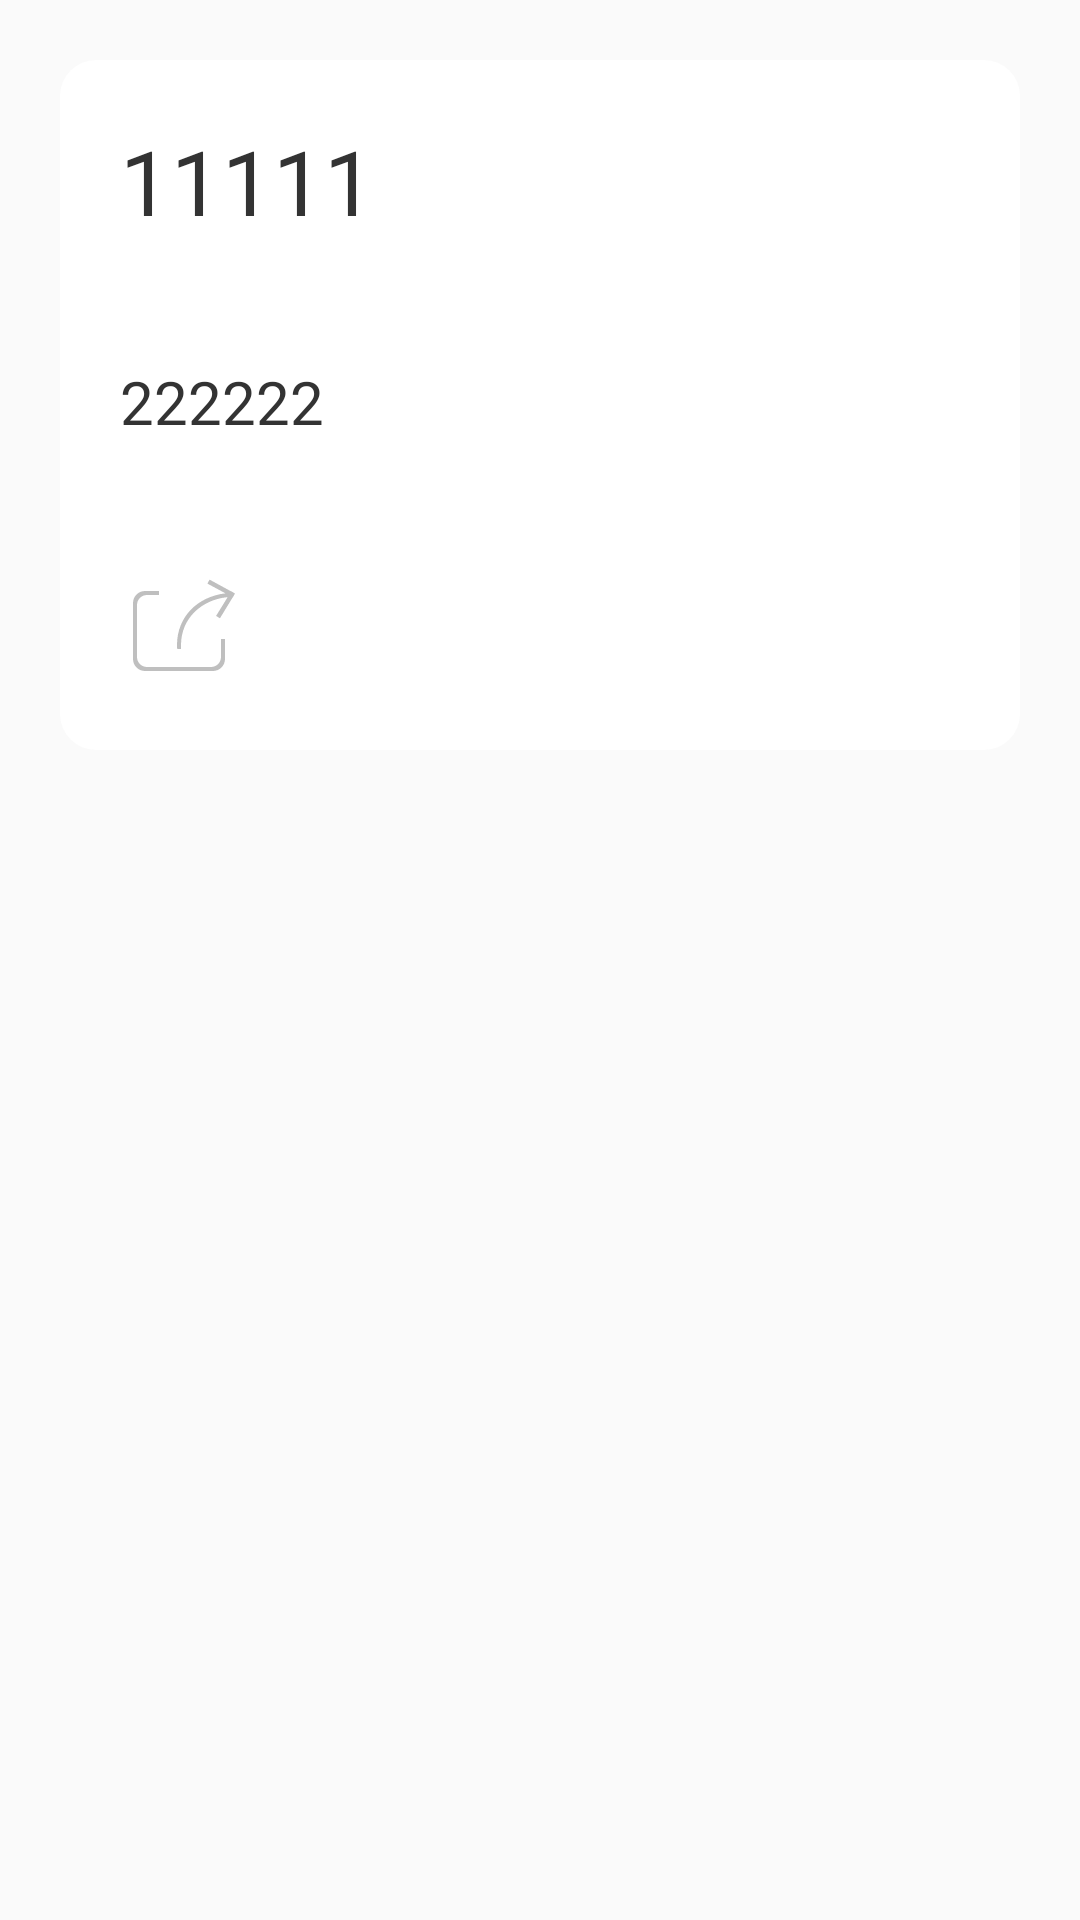

Where to tap for icons on this 1080*1920 app screen, as [x,y]:
share: [184,625]
